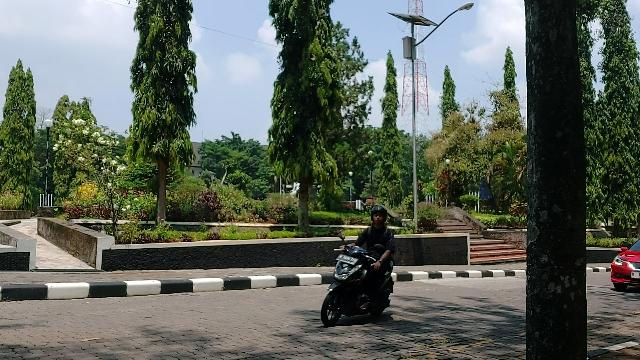helm: (372, 207, 389, 225)
motor: (322, 247, 394, 327)
